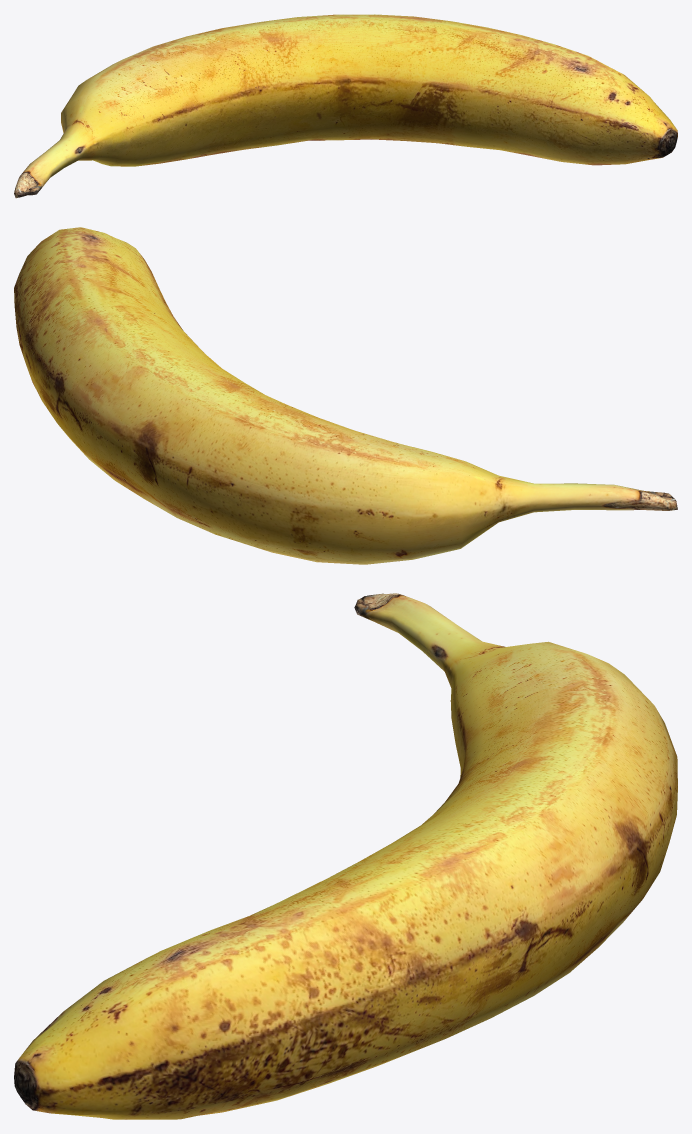
File: ripe_banana_photoscan_lowpoly.glb
3 views of the same model, one above another, from view 1: azimuth 30°, elevation 25°; view 2: azimuth 150°, elevation 25°; view 3: azimuth 270°, elevation 25° (orthographic). The views are drawn at different scales.
Visible parts, largest first — view 1: Object_2; view 2: Object_2; view 3: Object_2.
Boxes of the visible parts, x1=… form: Object_2: x1=14, y1=14, x2=677, y2=198; Object_2: x1=14, y1=227, x2=677, y2=564; Object_2: x1=14, y1=593, x2=677, y2=1119.
Size of the model in its own units: 0.9537 by 0.1727 by 0.5534.
Materials: 1 (1 with a texture image).
